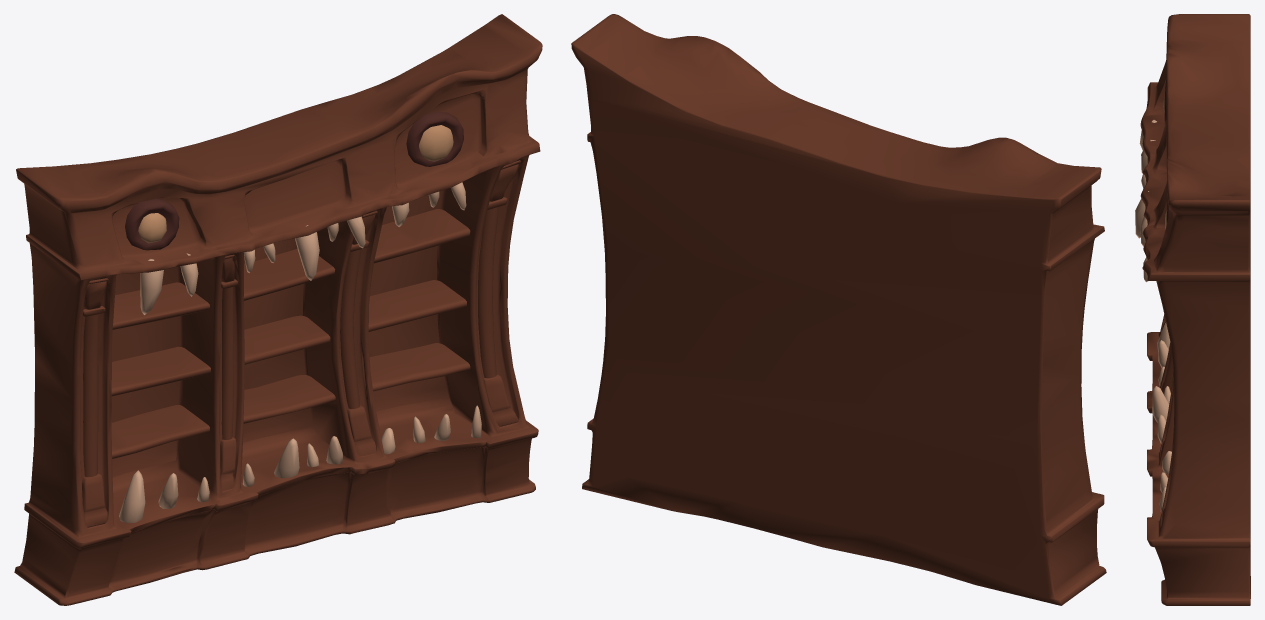
The model's file is MOD_BookcaseMimic.fbx.
The picture shows the model from 3 angles, left to right: view 1: azimuth 30°, elevation 25°; view 2: azimuth 150°, elevation 25°; view 3: azimuth 270°, elevation 25°; orthographic projection. The views are drawn at different scales.
Visible parts, largest first — view 1: MOD_BookcaseMimic; view 2: MOD_BookcaseMimic; view 3: MOD_BookcaseMimic.
Part boxes in pixels (x1,y1,x2,y2): MOD_BookcaseMimic: [14, 14, 542, 605]; MOD_BookcaseMimic: [571, 14, 1106, 605]; MOD_BookcaseMimic: [1135, 14, 1250, 605].
Bounding box in the file's own units: 419 × 361 × 92.3.
